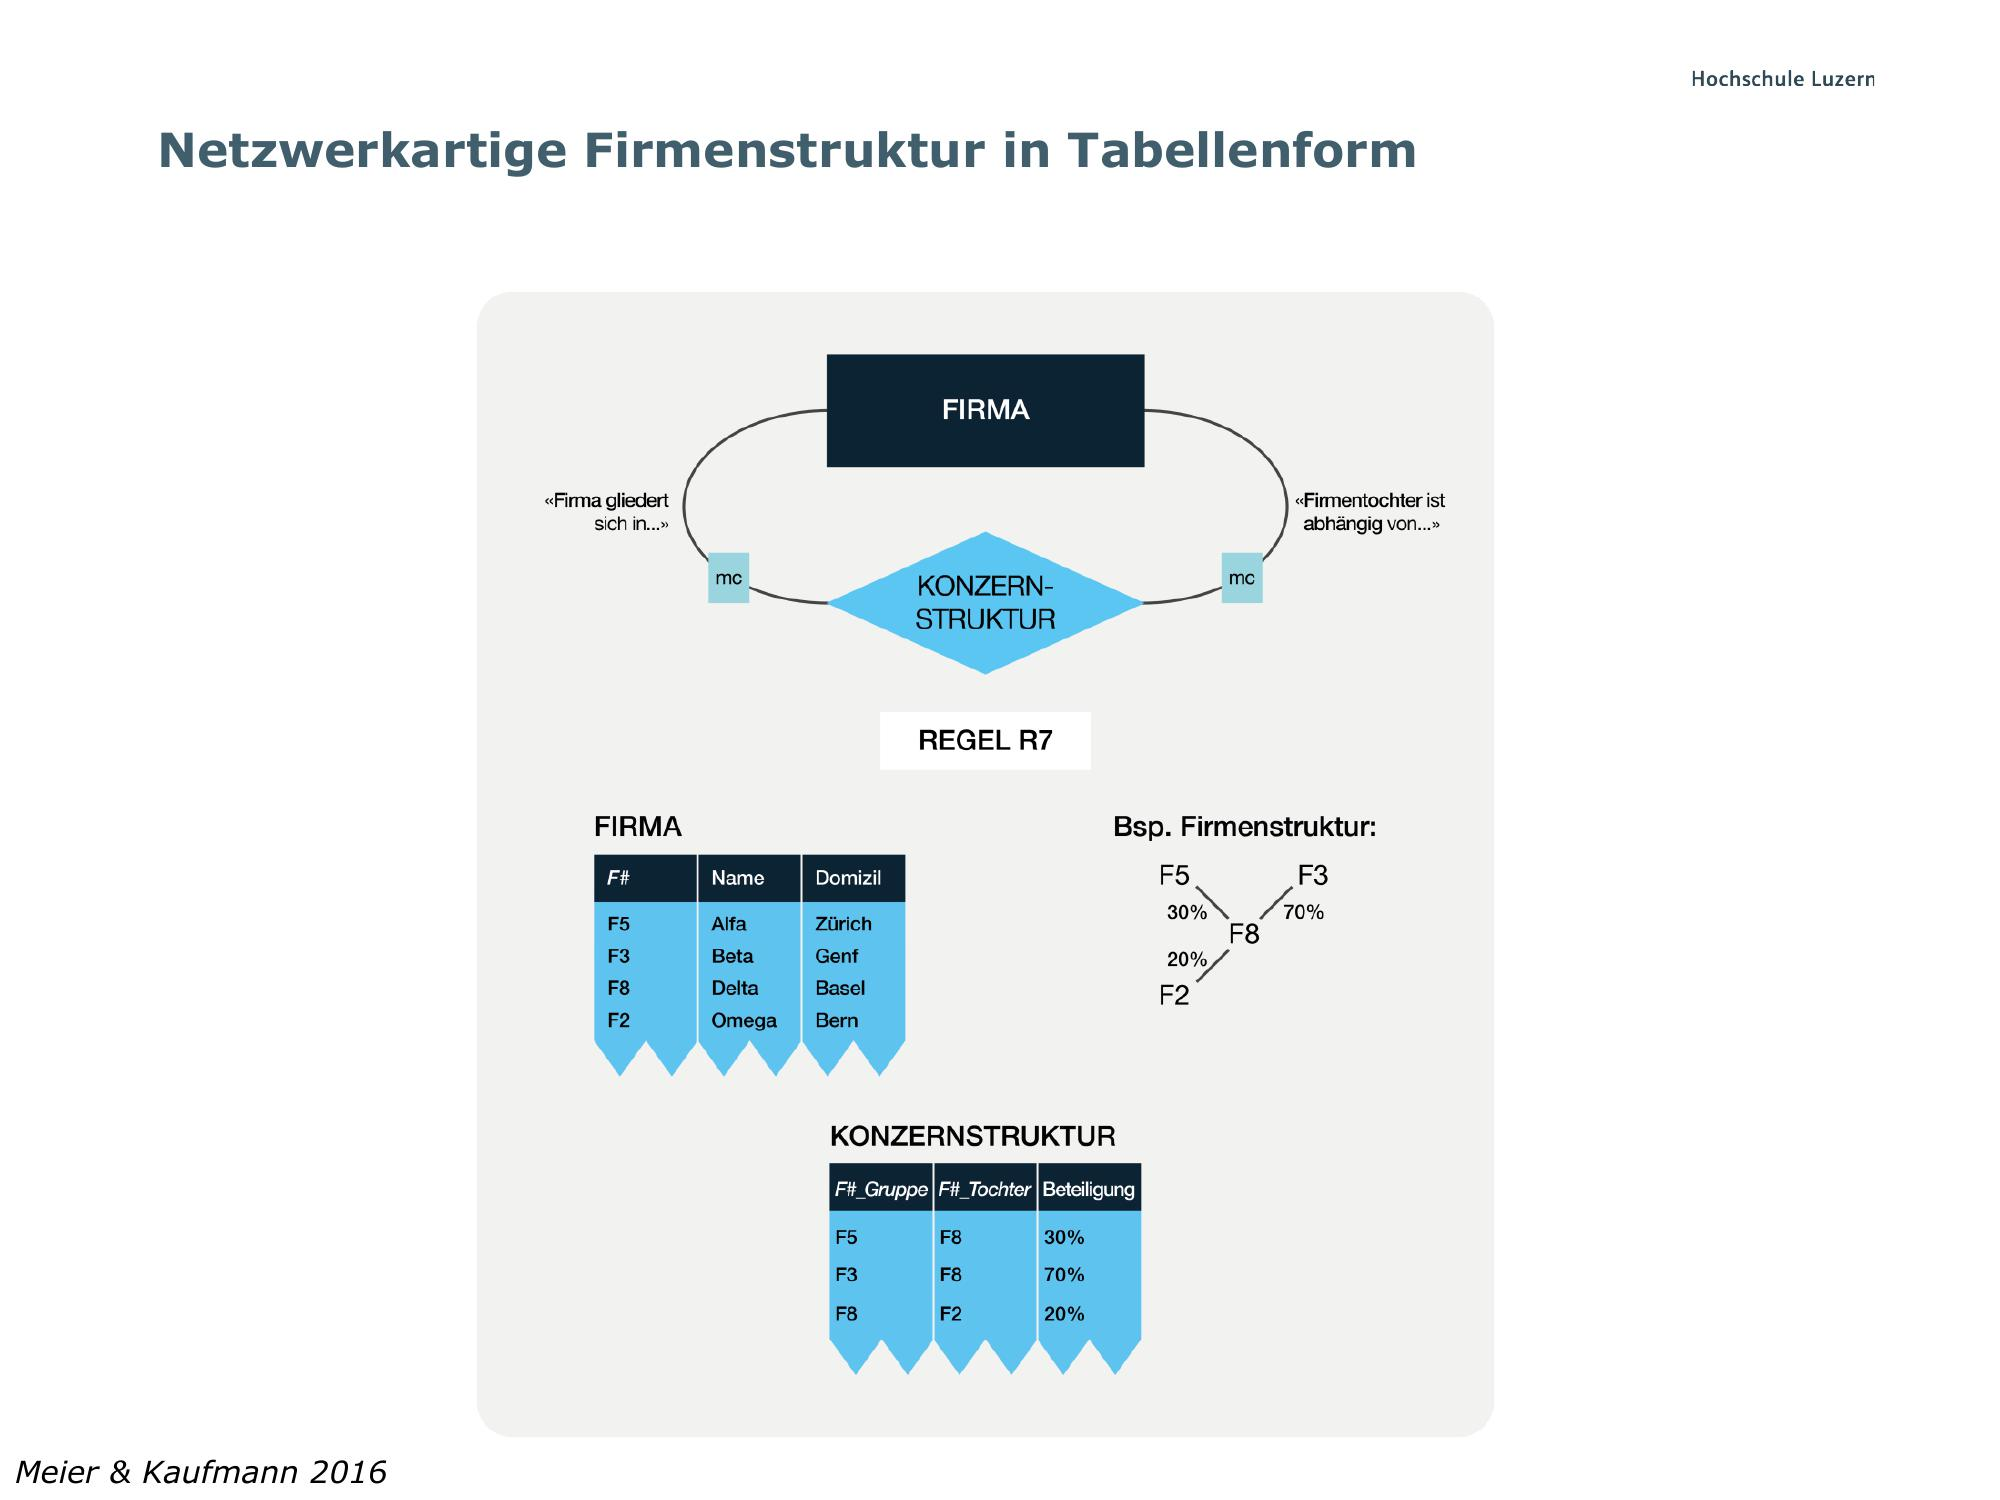Title: (112, 110, 1435, 195)
